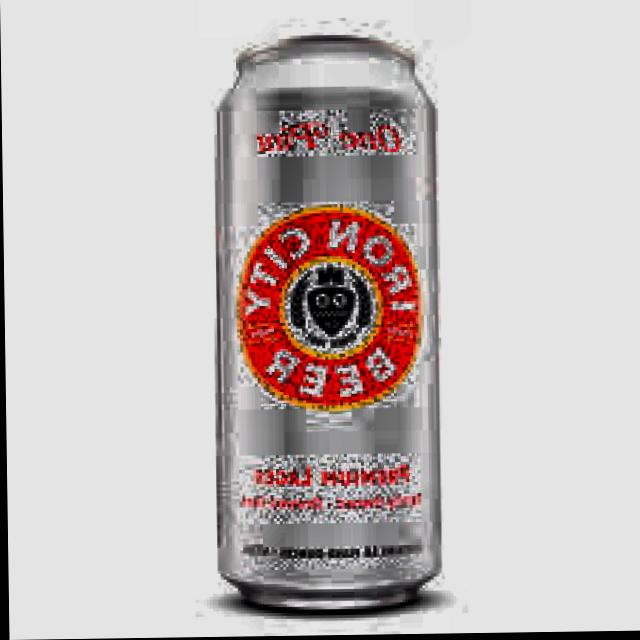can: (200, 26, 449, 626)
